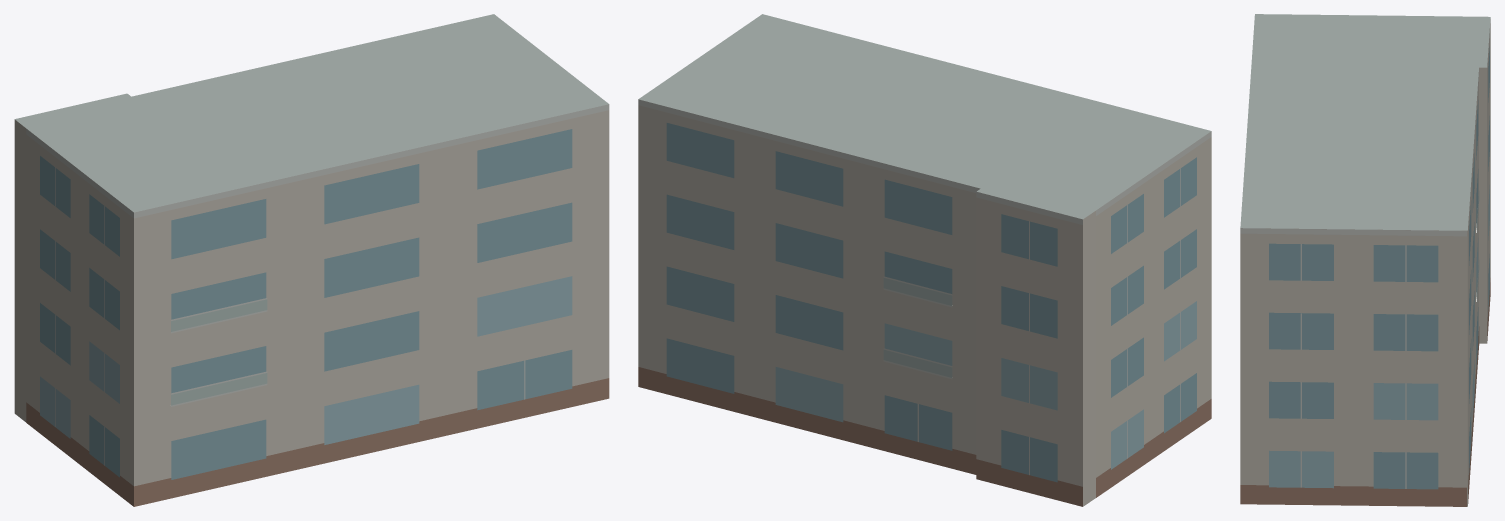
The model's file is survey-upis-32819711.glb.
3 views of the same model, side by side, from view 1: azimuth 30°, elevation 25°; view 2: azimuth 150°, elevation 25°; view 3: azimuth 270°, elevation 25° (orthographic). The views are drawn at different scales.
Parts seen in each view (by area): view 1: survey-upis-32819711.tmp; view 2: survey-upis-32819711.tmp; view 3: survey-upis-32819711.tmp.
Boxes of the visible parts, x1,y1,x2,y2 form: survey-upis-32819711.tmp: (14, 14, 609, 506); survey-upis-32819711.tmp: (638, 14, 1211, 506); survey-upis-32819711.tmp: (1240, 14, 1490, 506).
Bounding box in the file's own units: 20.55 × 12.2 × 10.03.
